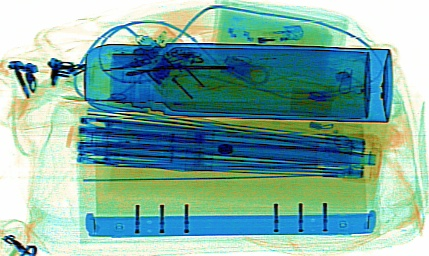lighter: (165, 24, 303, 46)
